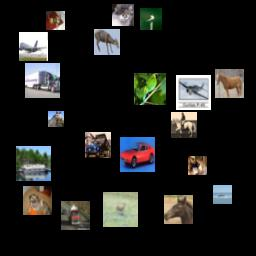airplane: (176, 75, 211, 110), (19, 32, 48, 61)
automobile: (120, 137, 155, 172)
bird: (134, 73, 166, 105), (140, 8, 162, 30)
cat: (112, 4, 134, 26)
deer: (103, 192, 138, 227), (94, 29, 120, 55)
dog: (23, 186, 52, 215), (188, 156, 207, 175), (46, 11, 65, 30)
ship: (16, 146, 51, 181), (213, 185, 232, 204)
truck: (25, 63, 60, 98), (61, 201, 90, 230), (85, 132, 111, 158)
